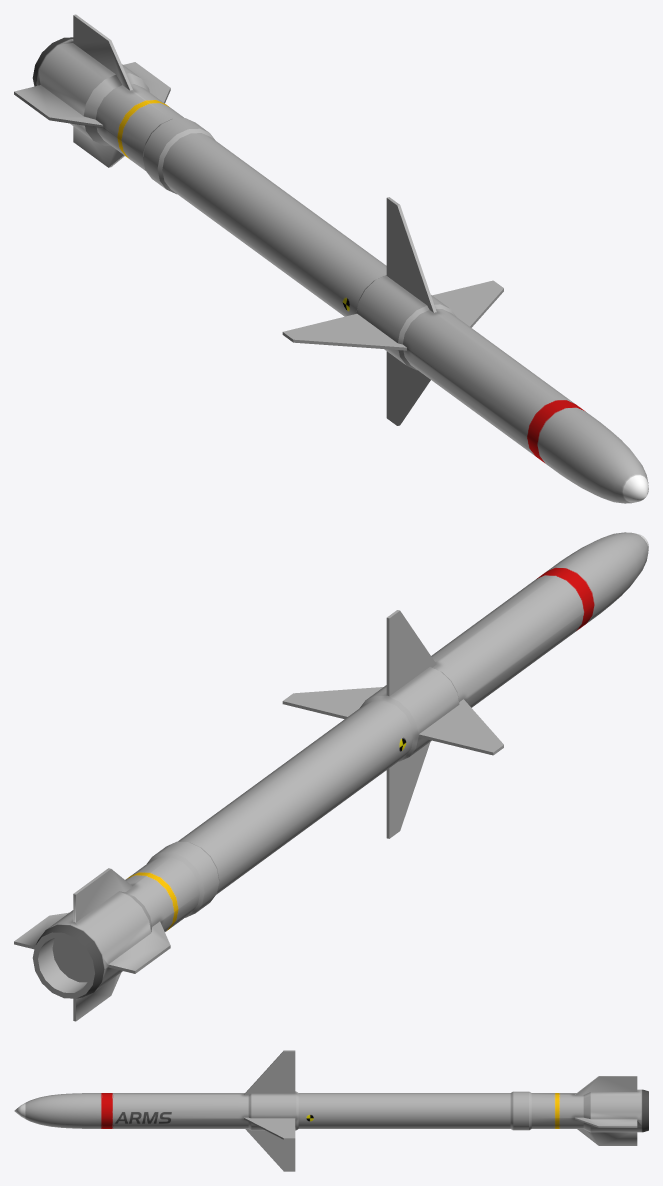
Rendered from radarGuided.FBX.
3 views of the same model, one above another, from view 1: azimuth 30°, elevation 25°; view 2: azimuth 150°, elevation 25°; view 3: azimuth 270°, elevation 25° (orthographic). The views are drawn at different scales.
Parts seen in each view (by area): view 1: Line001; view 2: Line001; view 3: Line001.
Part boxes in pixels (left/top/right/bottom): Line001: left=14, top=14, right=648, bottom=503; Line001: left=14, top=532, right=648, bottom=1021; Line001: left=14, top=1050, right=648, bottom=1171.
Bounding box in the file's own units: 2.24 × 2.24 × 10.74.
